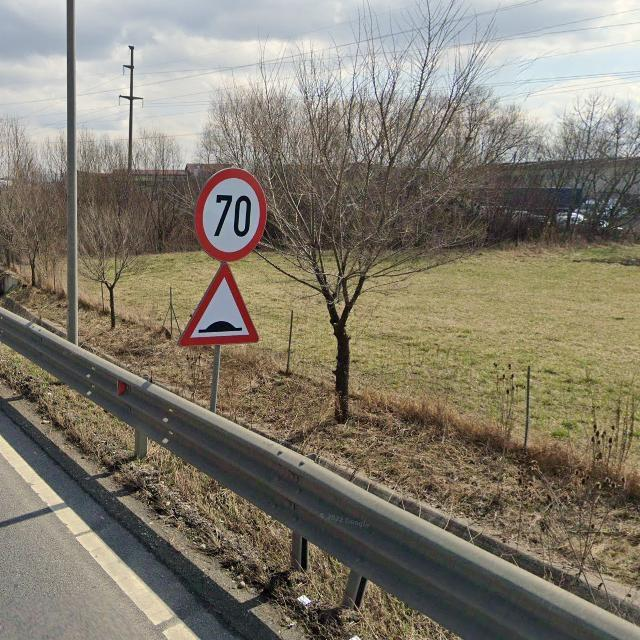forb_speed_over_70: (192, 166, 268, 262)
